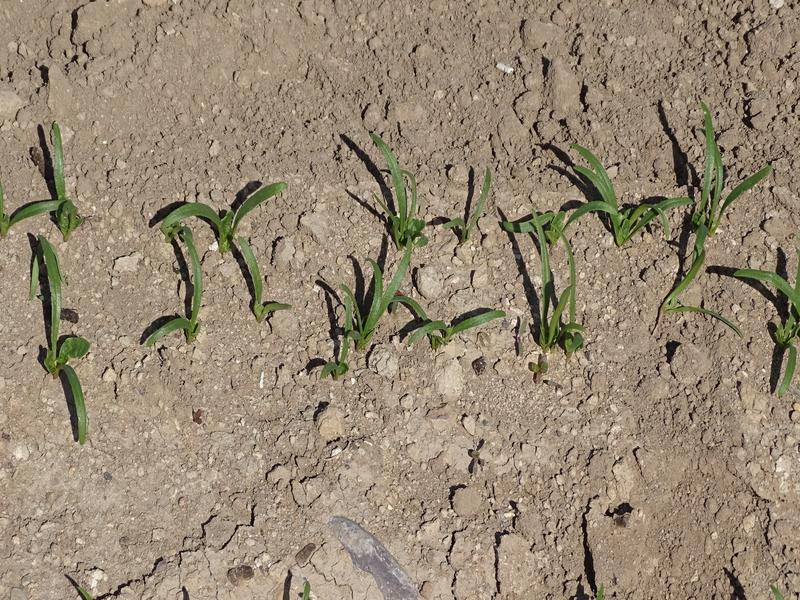Espinaca: (312, 135, 504, 354), (509, 152, 674, 361), (152, 190, 286, 343), (680, 147, 757, 334), (30, 240, 97, 436), (14, 137, 98, 227), (764, 264, 800, 377)
